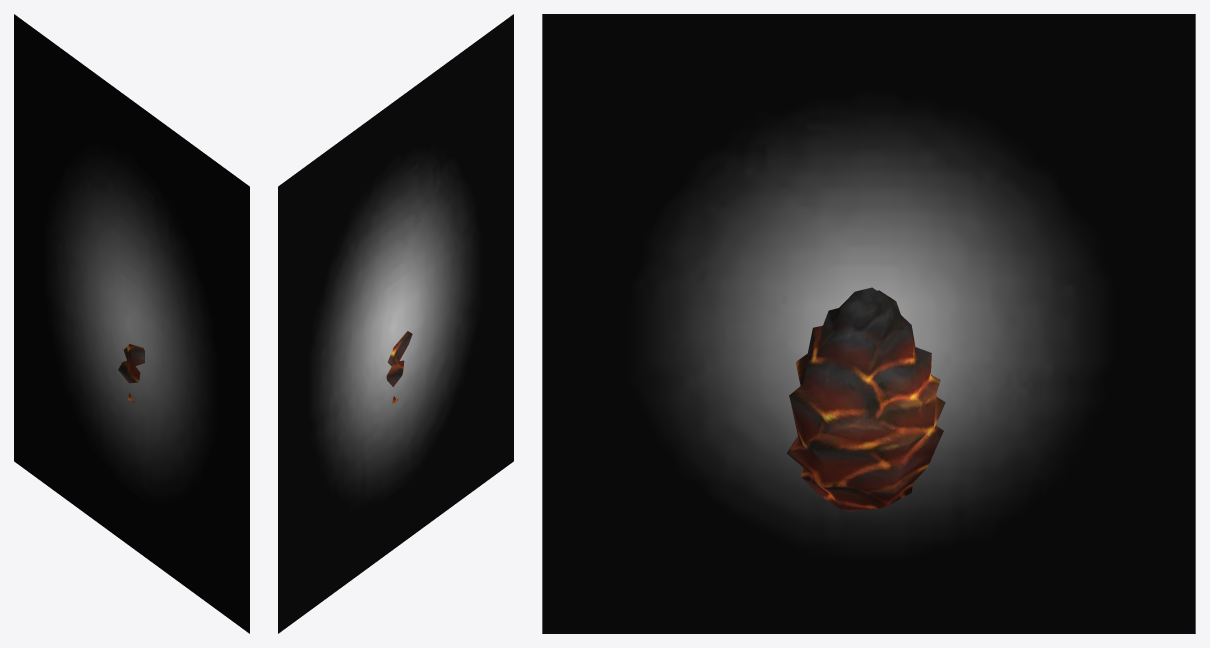
3 renders of one model, left to right at view 1: azimuth 30°, elevation 25°; view 2: azimuth 150°, elevation 25°; view 3: azimuth 270°, elevation 25°, orthographic. The views are drawn at different scales.
Bounding box in the file's own units: 0.5492 × 2.15 × 2.05.
2 materials, 2 textured.
